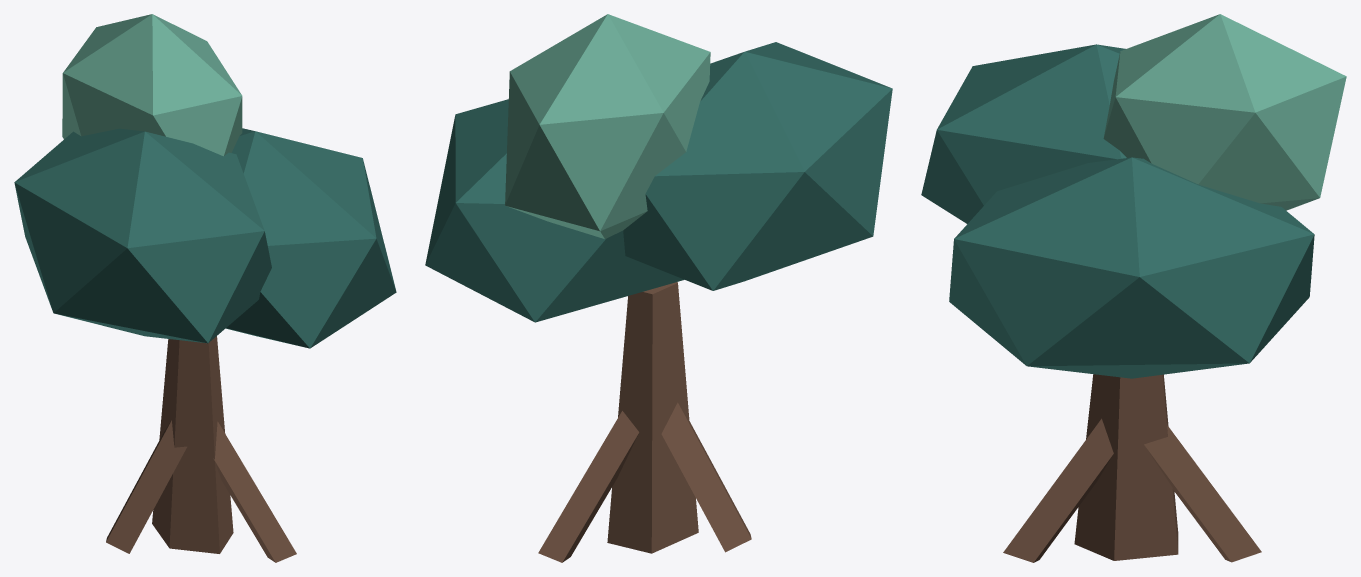
Rendered from Tree_B.fbx.
3 views of the same model, side by side, from view 1: azimuth 30°, elevation 25°; view 2: azimuth 150°, elevation 25°; view 3: azimuth 270°, elevation 25° (orthographic). The views are drawn at different scales.
Parts seen in each view (by area): view 1: Tree_B; view 2: Tree_B; view 3: Tree_B.
Boxes of the visible parts, x1=… form: Tree_B: x1=14, y1=14, x2=396, y2=562; Tree_B: x1=425, y1=14, x2=892, y2=562; Tree_B: x1=921, y1=14, x2=1346, y2=562.
Size of the model in its own units: 1.2 by 1.65 by 1.2.
